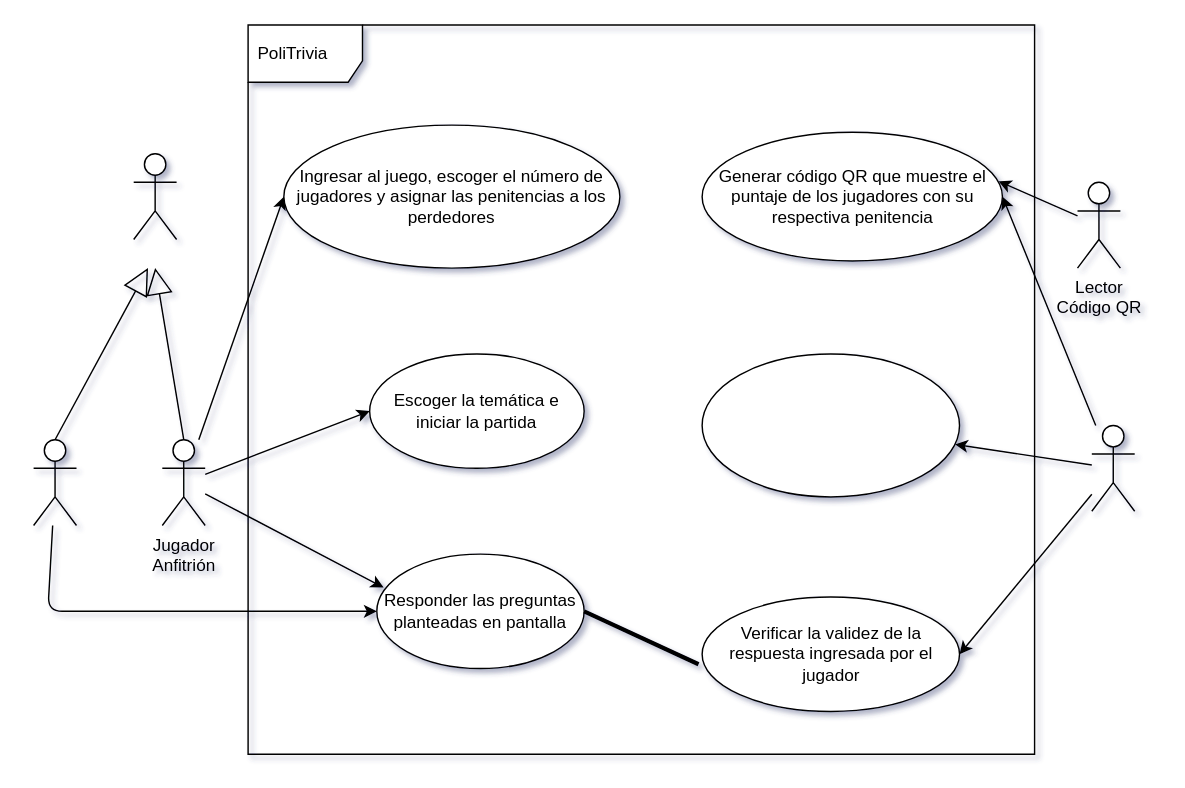
Image size: 1185x788. Some labels were removed from this diagram. The centre of each missing label's shape, as x and y in pixels:
Aplicación: (x=1112, y=467)
Jugador: (x=154, y=196)
Jugador Invitado: (x=54, y=482)
Mostrar en pantalla las categorías y las preguntas: (x=830, y=424)
